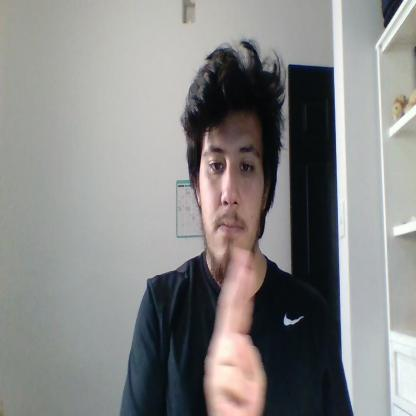R: (204, 248, 268, 415)
